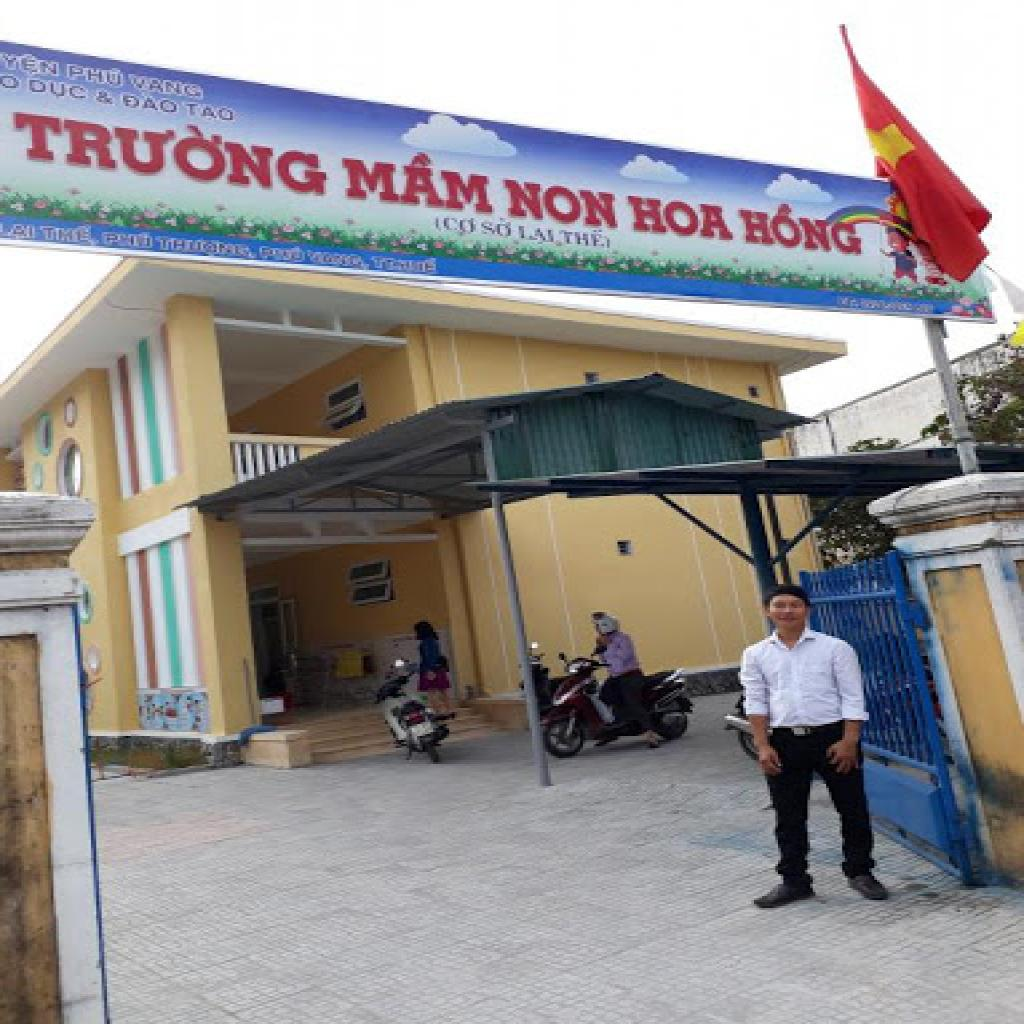text: (14, 98, 332, 198), (340, 140, 497, 218), (733, 196, 866, 258), (500, 174, 623, 232), (626, 192, 740, 244), (152, 234, 257, 262), (126, 72, 208, 102), (27, 76, 91, 106), (64, 60, 126, 90), (0, 50, 61, 78), (120, 92, 184, 118), (556, 224, 615, 252), (40, 220, 96, 246), (184, 100, 238, 126), (102, 228, 155, 252), (433, 214, 479, 238), (516, 224, 559, 248), (479, 218, 516, 242), (0, 222, 40, 242), (94, 90, 118, 108), (0, 74, 21, 92)
